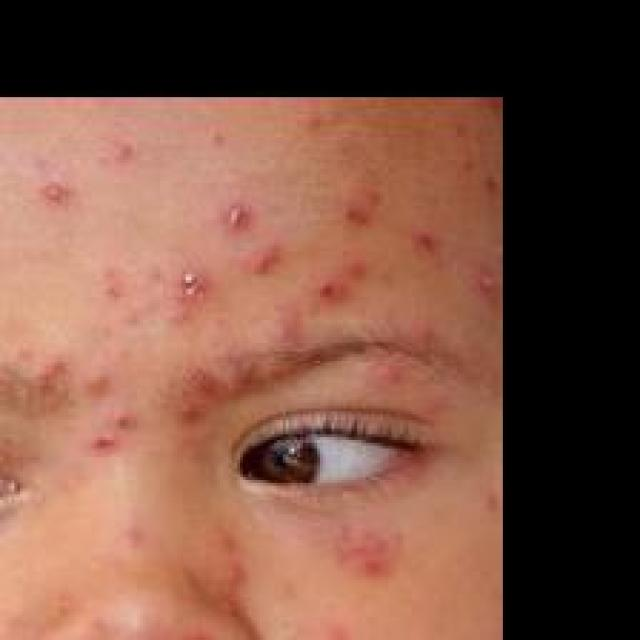others: (0, 91, 506, 640)
